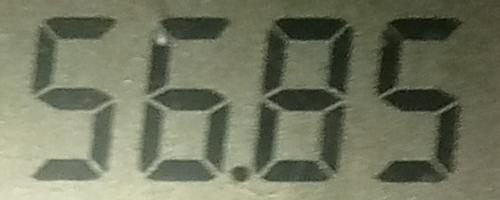.: (225, 161, 253, 184)
